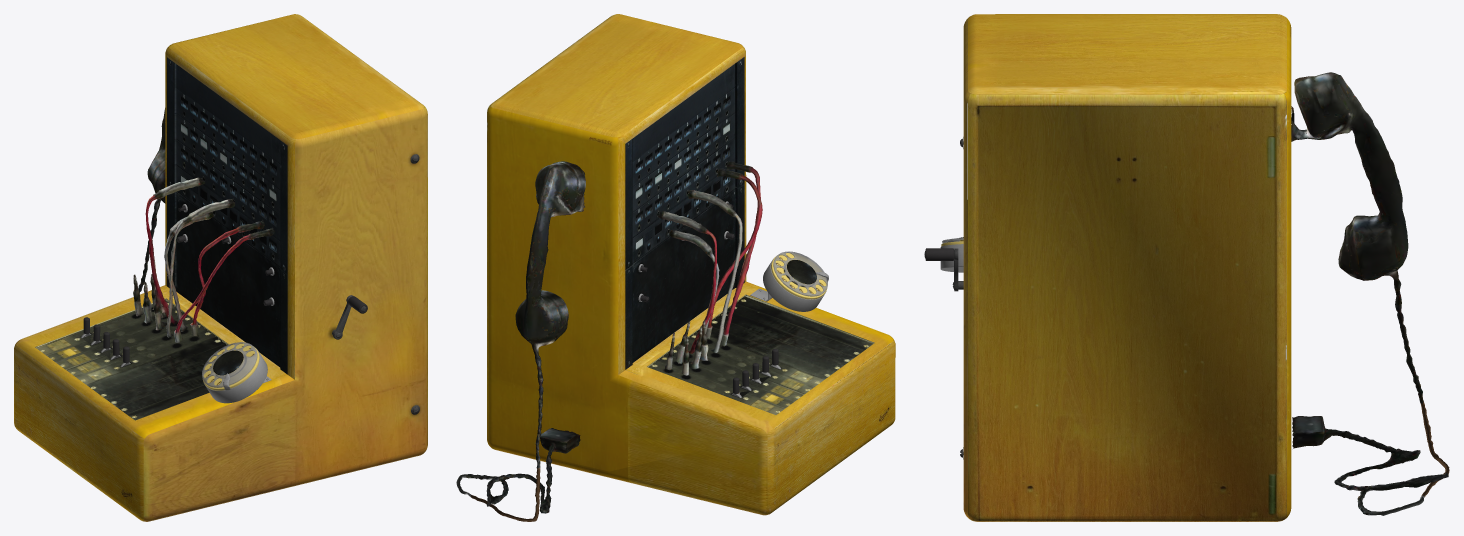
File: exhibit_switchboard.glb
3 renders of one model, left to right at view 1: azimuth 30°, elevation 25°; view 2: azimuth 150°, elevation 25°; view 3: azimuth 270°, elevation 25°, orthographic. The views are drawn at different scales.
Visible parts, largest first — view 1: Object_21, Object_24, Object_17, Object_18, Object_23, Object_2, Object_7, Object_8, Object_13, Object_25, Object_11, Object_26; view 2: Object_20, Object_24, Object_17, Object_18, Object_2, Object_23, Object_7, Object_8, Object_13, Object_11, Object_25; view 3: Object_15, Object_17, Object_2, Object_21, Object_20.
Boxes of the visible parts, x1,y1,x2,y2 form: Object_21: [143, 108, 427, 521]; Object_24: [167, 57, 287, 374]; Object_17: [15, 14, 424, 438]; Object_18: [14, 46, 295, 520]; Object_23: [35, 298, 230, 420]; Object_2: [133, 108, 275, 342]; Object_7: [203, 343, 259, 390]; Object_8: [203, 348, 267, 403]; Object_13: [202, 342, 257, 387]; Object_25: [83, 296, 367, 362]; Object_11: [213, 350, 243, 376]; Object_26: [332, 154, 419, 414]; Object_20: [487, 106, 767, 514]; Object_24: [625, 57, 744, 369]; Object_17: [490, 14, 893, 432]; Object_18: [617, 46, 895, 514]; Object_2: [456, 161, 762, 521]; Object_23: [647, 294, 874, 414]; Object_7: [771, 253, 826, 299]; Object_8: [763, 258, 828, 311]; Object_13: [773, 251, 827, 296]; Object_11: [786, 259, 816, 285]; Object_25: [733, 349, 778, 393]; Object_15: [968, 93, 1286, 520]; Object_17: [968, 14, 1286, 94]; Object_2: [1291, 72, 1449, 515]; Object_21: [963, 16, 970, 519]; Object_20: [1284, 17, 1291, 519].
Size of the model in its own units: 0.454 by 0.5274 by 0.5766.
20 materials, 19 textured.
